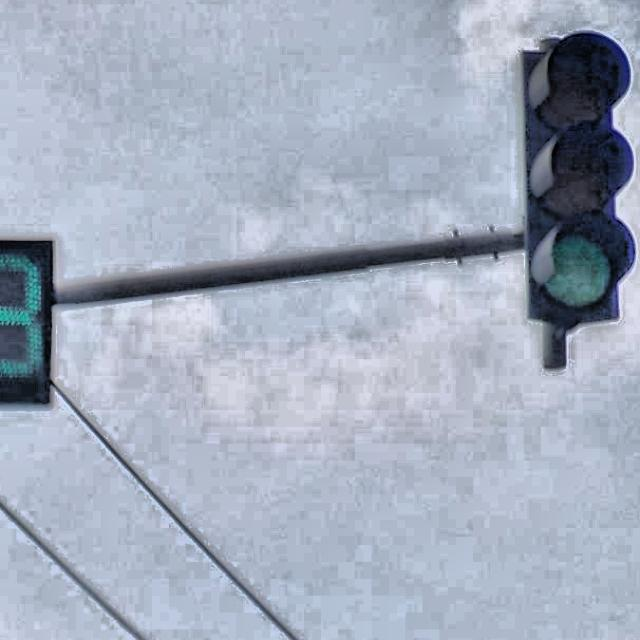green: (518, 36, 634, 326)
